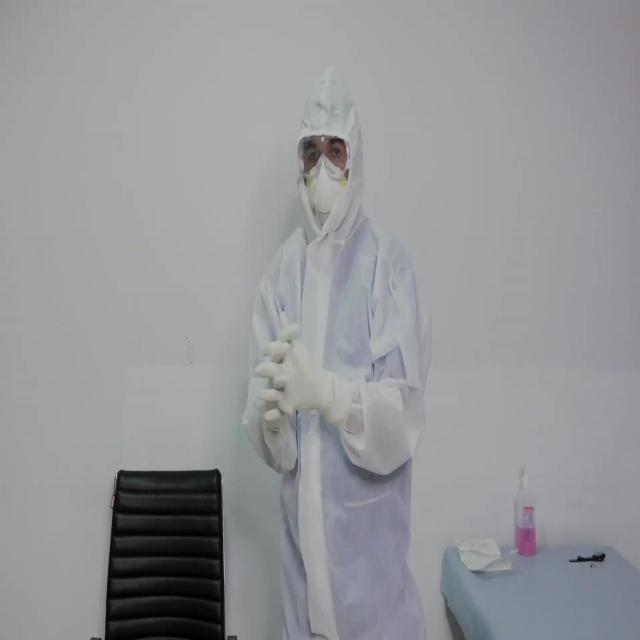Gloves: (254, 310, 334, 419), (268, 322, 299, 428)
Goggles: (296, 132, 349, 183)
